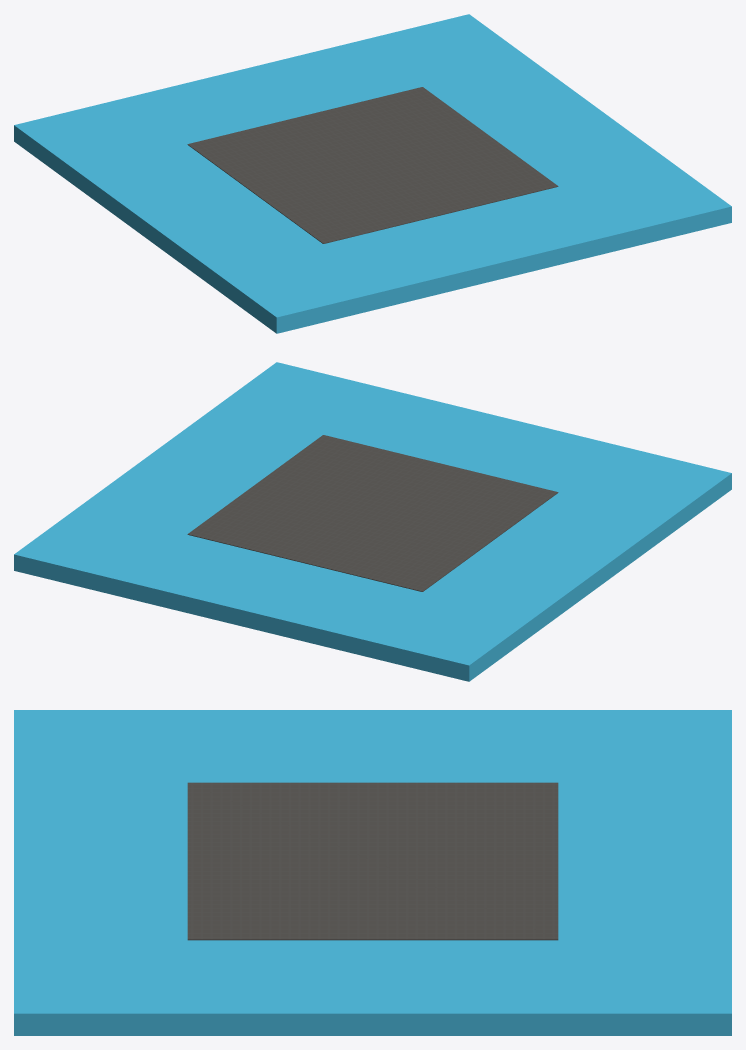
Rendered from CargoYardBase.glb.
The picture shows the model from 3 angles, top to bottom: view 1: azimuth 30°, elevation 25°; view 2: azimuth 150°, elevation 25°; view 3: azimuth 270°, elevation 25°; orthographic projection. The views are drawn at different scales.
Visible parts, largest first — view 1: Water, Ground; view 2: Water, Ground; view 3: Water, Ground.
Boxes of the visible parts, x1=… form: Water: x1=14, y1=14, x2=731, y2=333; Ground: x1=187, y1=87, x2=558, y2=243; Water: x1=14, y1=362, x2=731, y2=681; Ground: x1=187, y1=435, x2=558, y2=591; Water: x1=14, y1=710, x2=731, y2=1035; Ground: x1=187, y1=782, x2=558, y2=940.
Bounding box in the file's own units: 1200 × 42.8 × 1200.
Materials: 2 (1 with a texture image).
